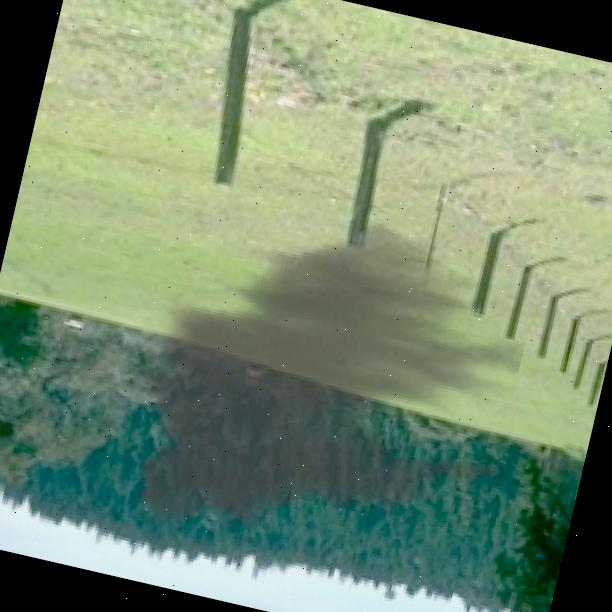smoke: (90, 161, 546, 607)
